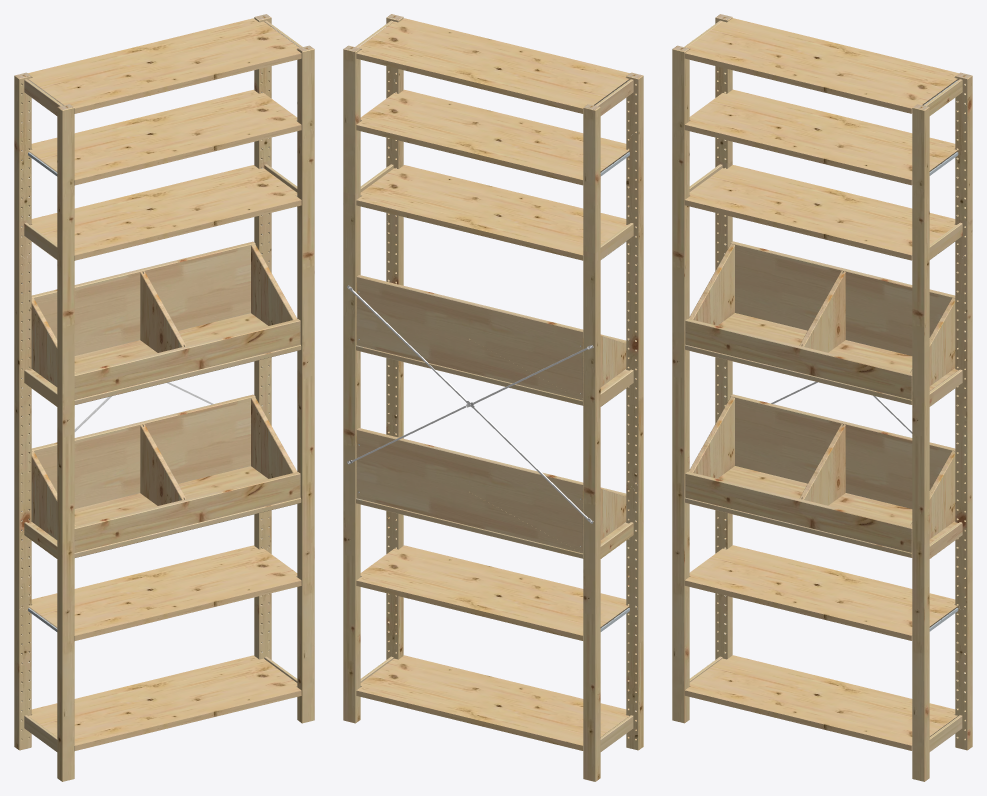
The picture shows the model from 3 angles, left to right: view 1: azimuth 30°, elevation 25°; view 2: azimuth 150°, elevation 25°; view 3: azimuth 330°, elevation 25°; orthographic projection.
Parts seen in each view (by area): view 1: 49590582_shelving_unit; view 2: 49590582_shelving_unit; view 3: 49590582_shelving_unit.
Part boxes in pixels (<box>): 49590582_shelving_unit: <box>14,14,314,781</box>; 49590582_shelving_unit: <box>343,14,643,781</box>; 49590582_shelving_unit: <box>672,14,972,781</box>.
Bounding box in the file's own units: 0.8904 × 2.26 × 0.3011.
13 materials, 11 textured.
